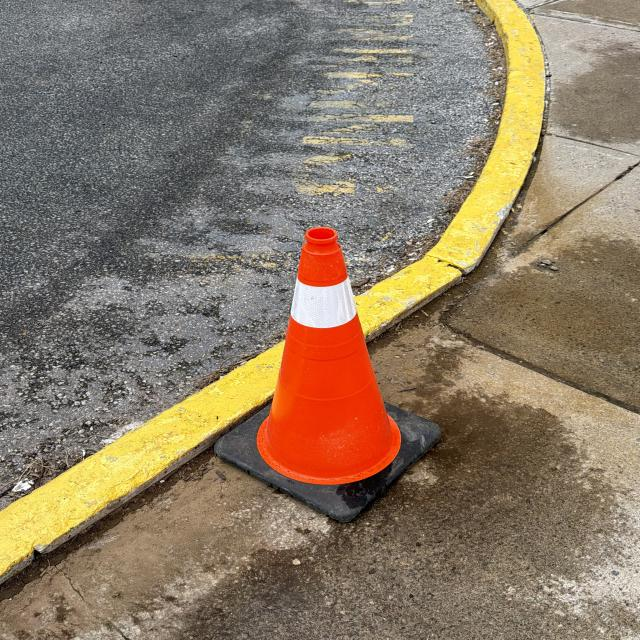Traffic Cone: (210, 226, 448, 522)
